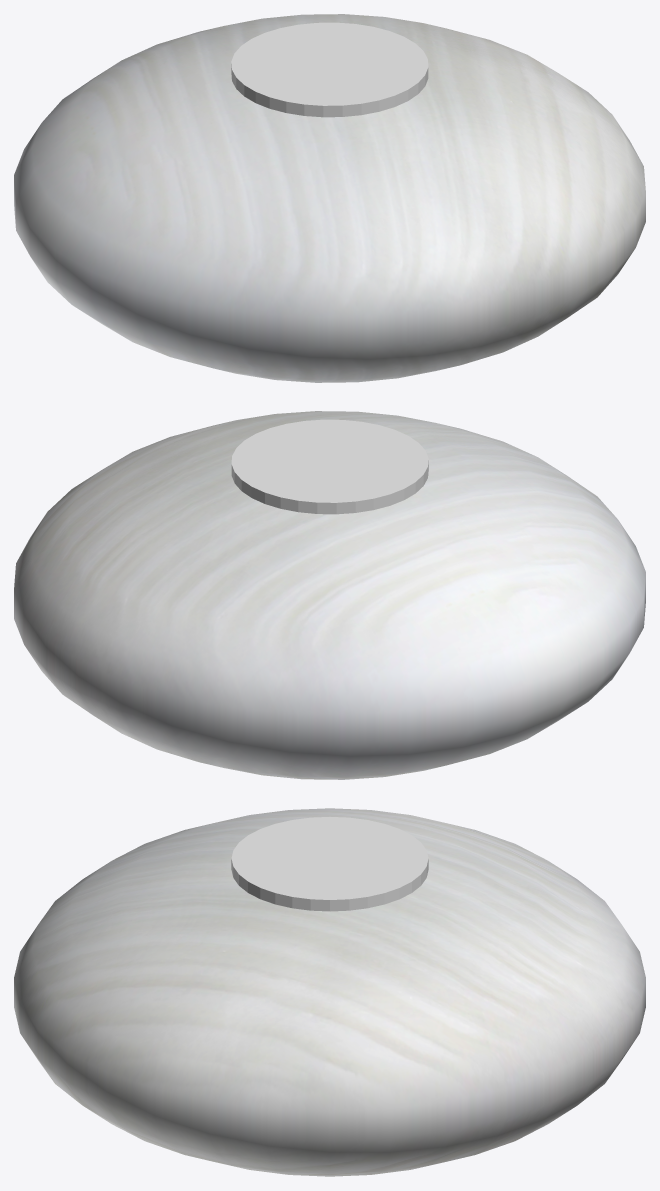
The model's file is stone.fbx.
3 views of the same model, one above another, from view 1: azimuth 30°, elevation 25°; view 2: azimuth 150°, elevation 25°; view 3: azimuth 270°, elevation 25° (orthographic).
Visible parts, largest first — view 1: Stone, Mark; view 2: Stone, Mark; view 3: Stone, Mark.
Boxes of the visible parts, left/top/right/bottom form: Stone: left=14, top=14, right=645, bottom=382; Mark: left=231, top=22, right=428, bottom=117; Stone: left=14, top=411, right=645, bottom=779; Mark: left=231, top=419, right=428, bottom=514; Stone: left=14, top=808, right=645, bottom=1176; Mark: left=231, top=817, right=428, bottom=911.
Bounding box in the file's own units: 3.21 × 1.5 × 3.21.
